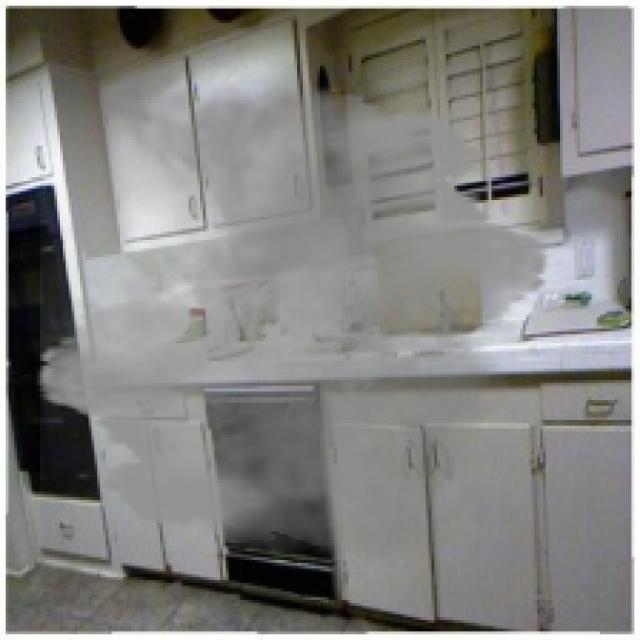Smoke: (20, 52, 566, 574)
